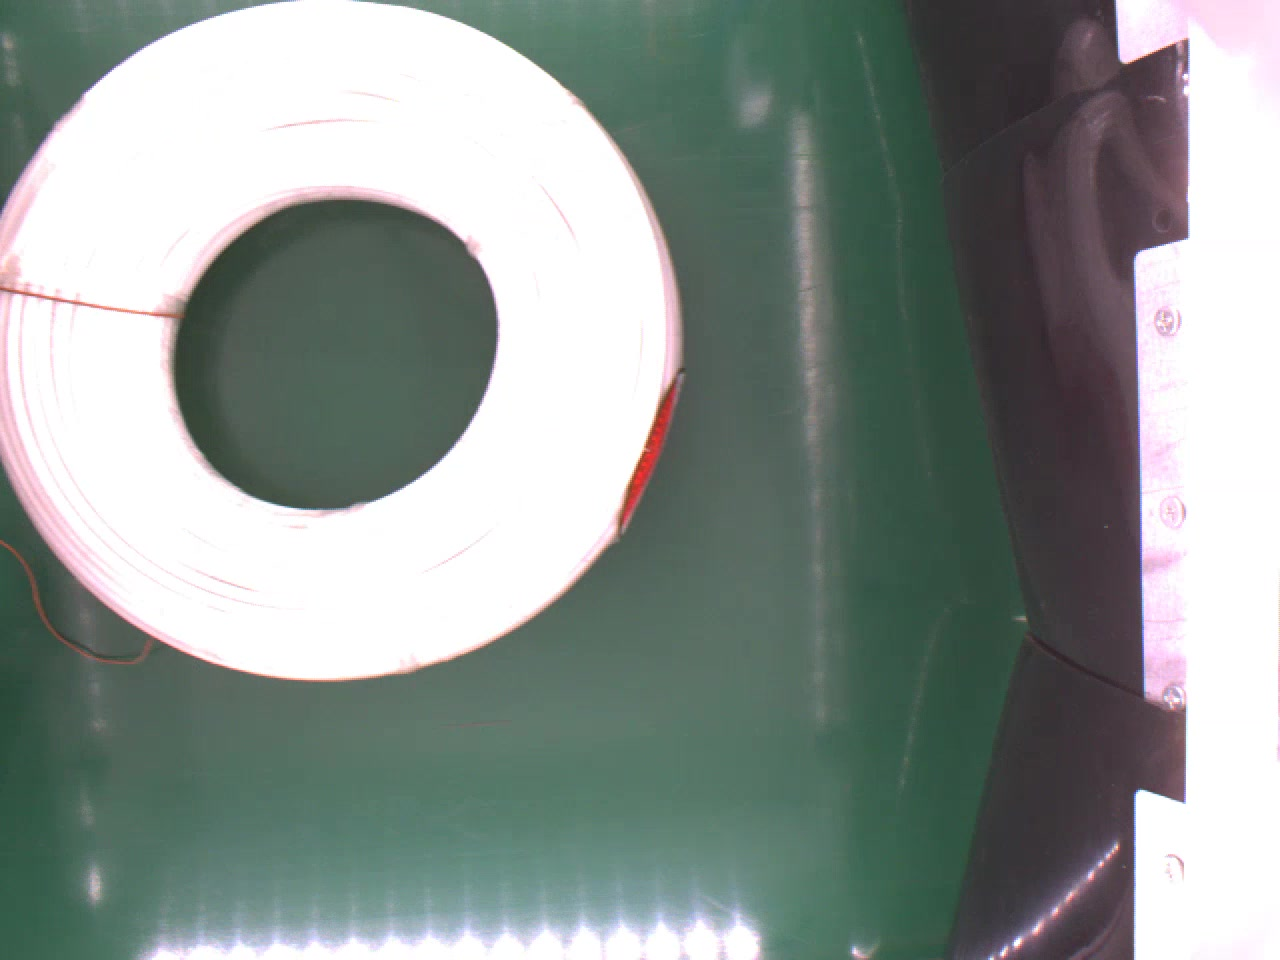white: (0, 9, 684, 688)
